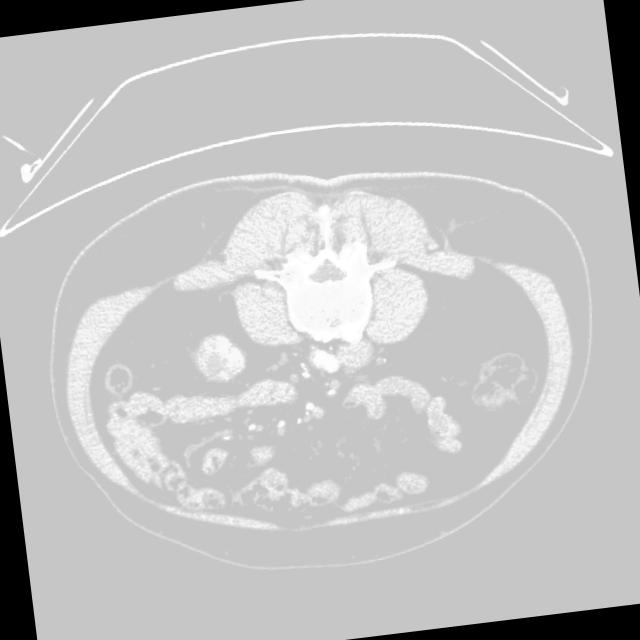TUMOR: (94, 268, 296, 438)
